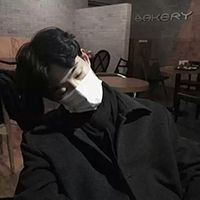face_mask: (44, 58, 103, 111)
